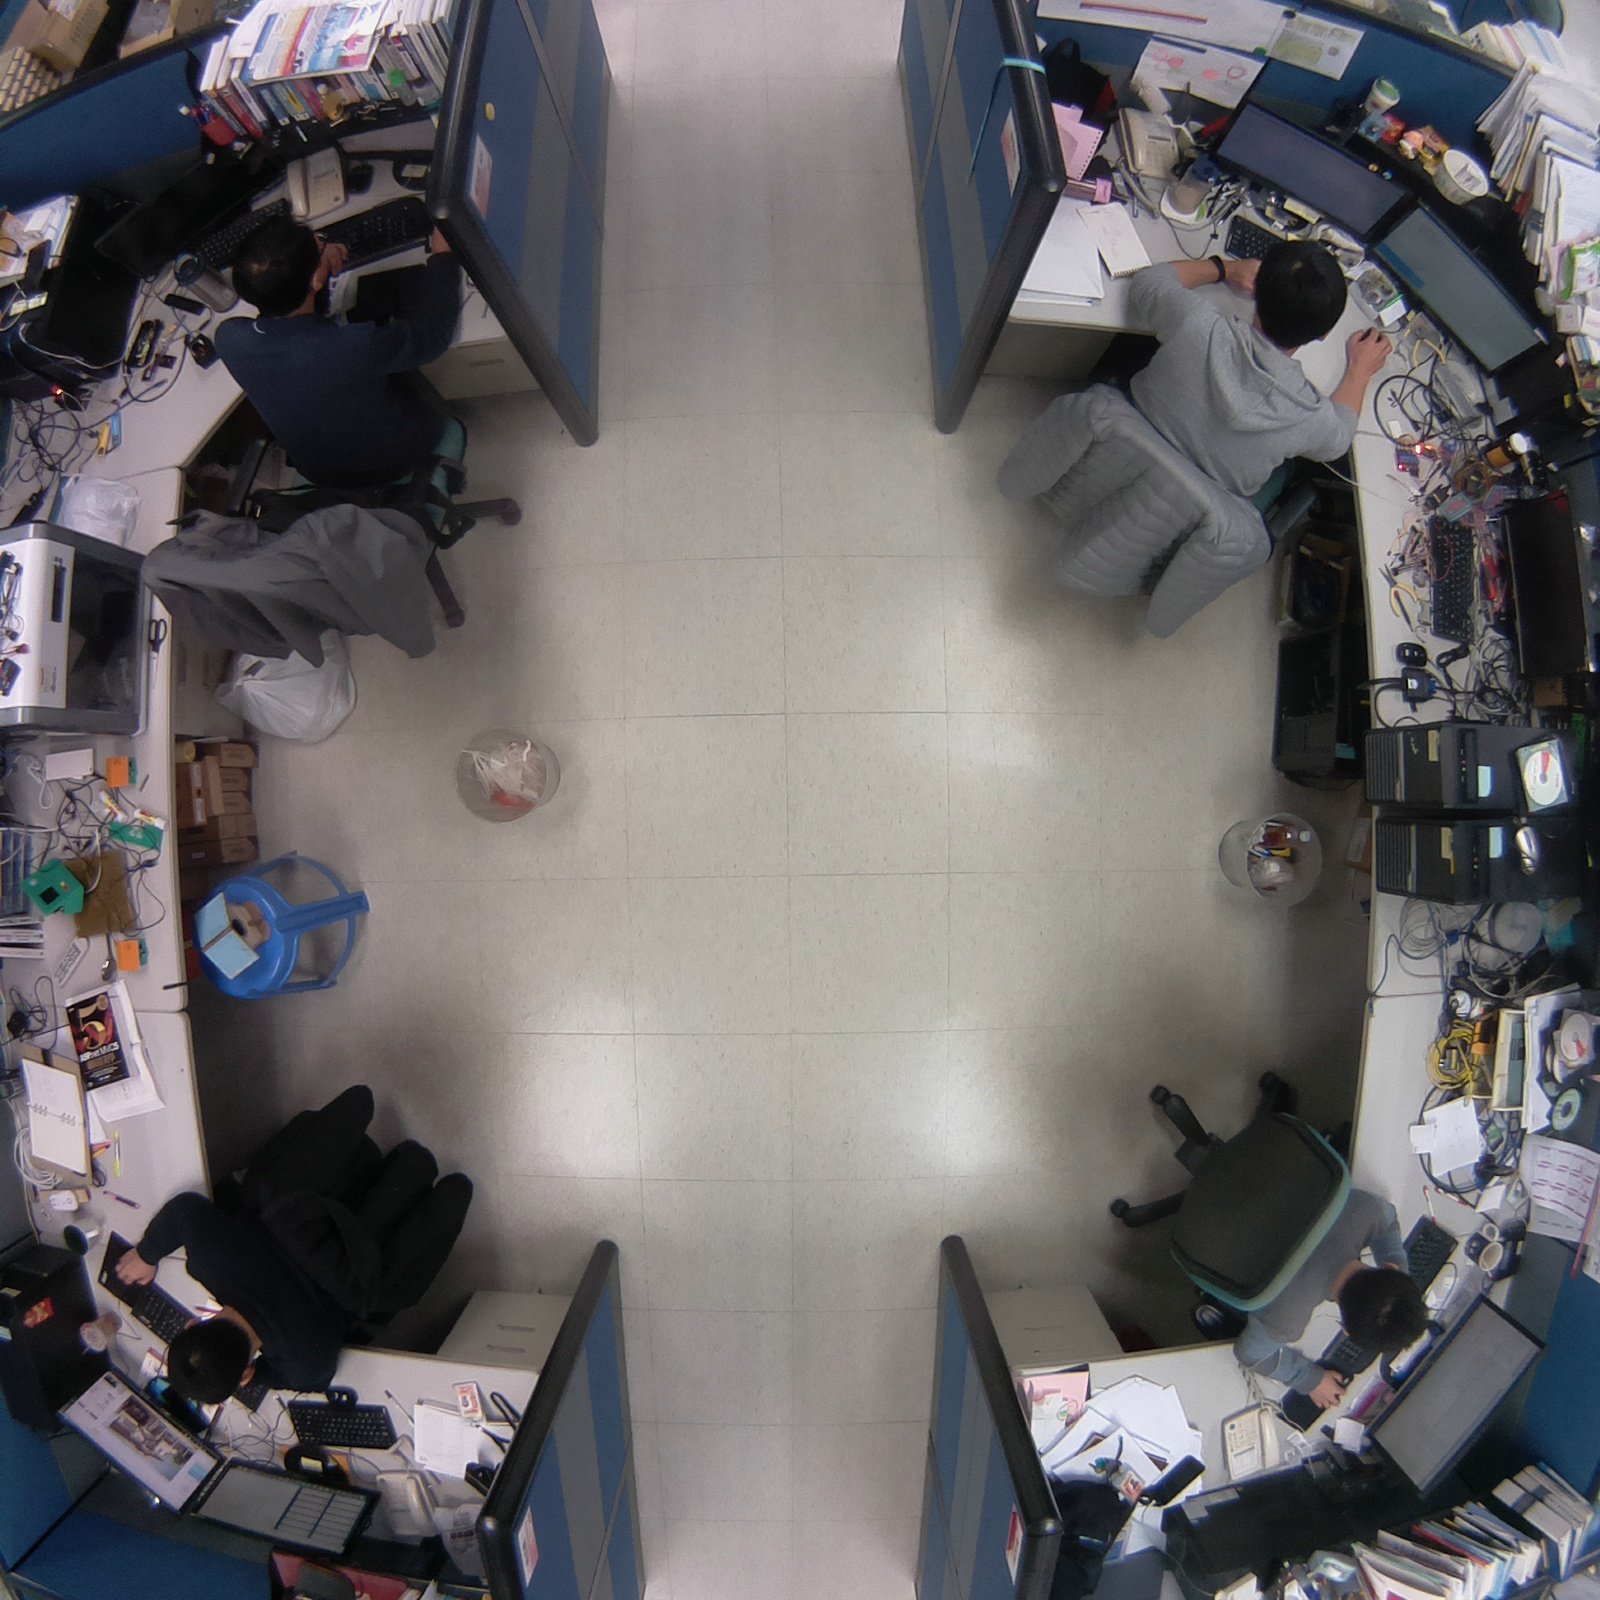head: (221, 208, 344, 336), (1246, 234, 1353, 353), (1332, 1259, 1432, 1365), (166, 1304, 266, 1406)
sitting: (124, 204, 529, 678), (978, 232, 1396, 650), (1086, 1037, 1435, 1424), (110, 1065, 499, 1411)
